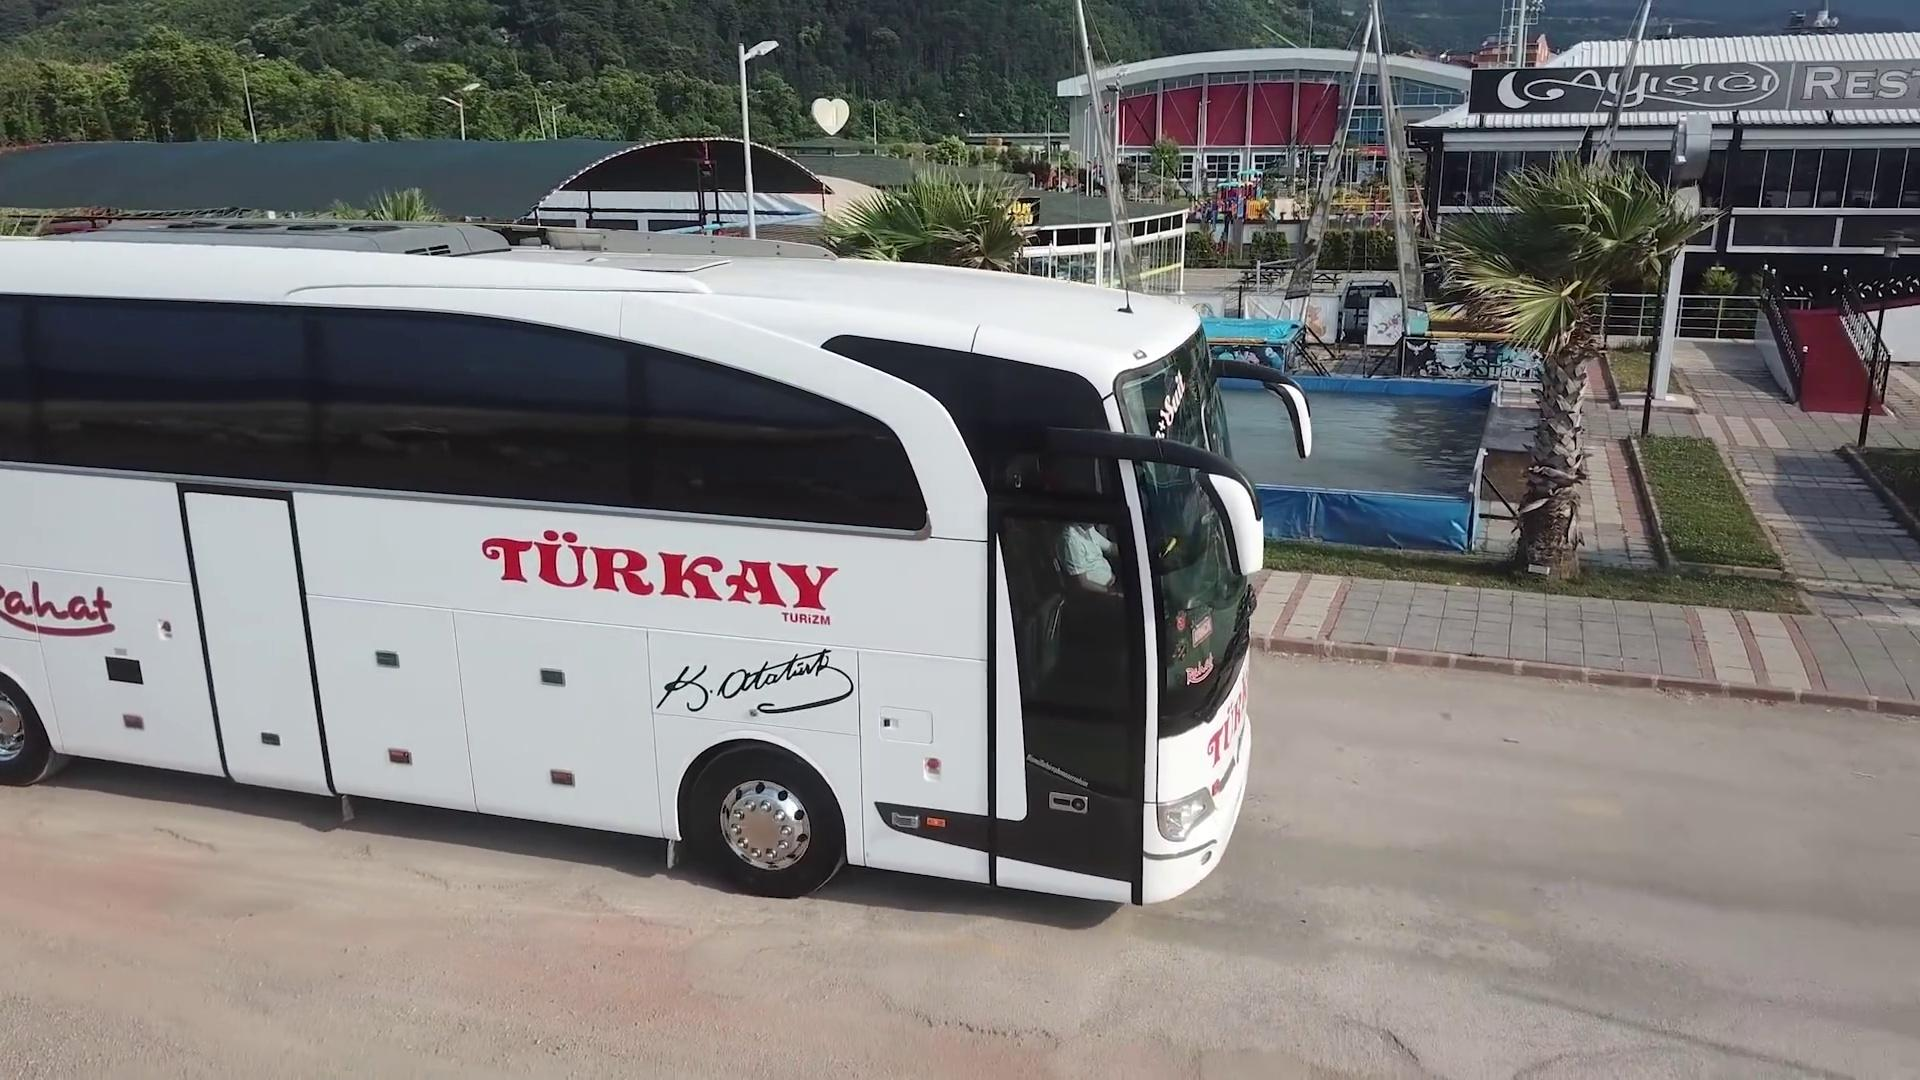Bus: (0, 216, 1305, 906)
